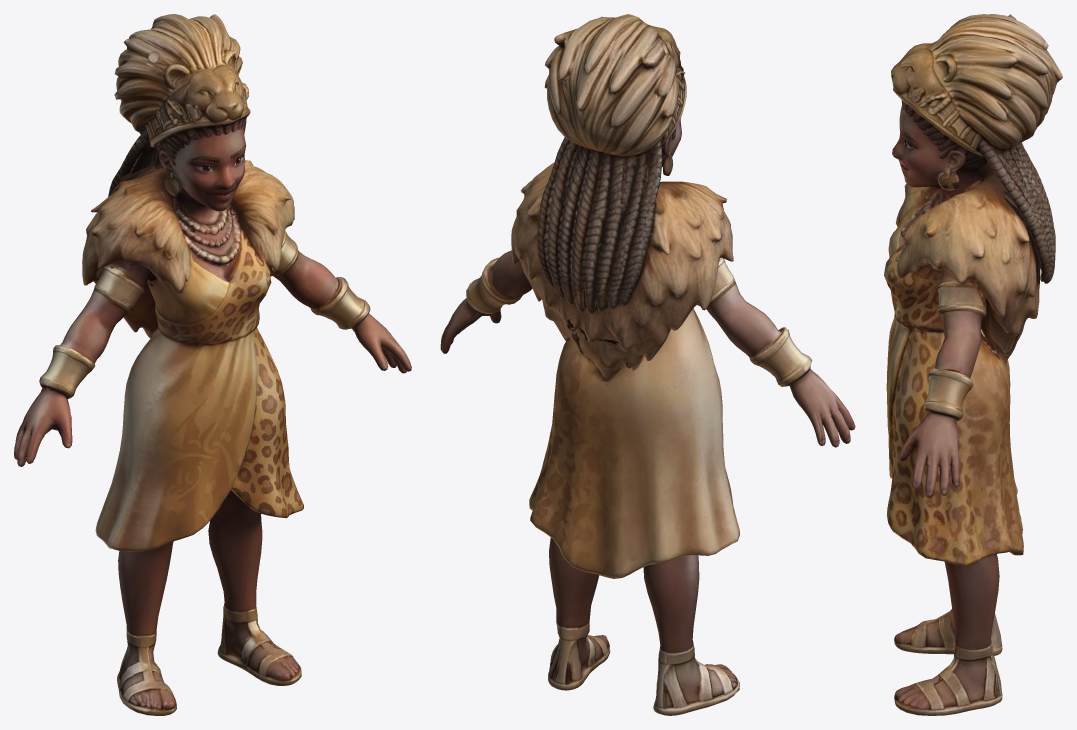
Rendered from queen.glb.
3 renders of one model, left to right at view 1: azimuth 30°, elevation 25°; view 2: azimuth 150°, elevation 25°; view 3: azimuth 270°, elevation 25°, orthographic. The views are drawn at different scales.
Visible parts, largest first — view 1: tripo_node_1d10a9a7-7bcb-4be1-ba95-2bbd869fd37d; view 2: tripo_node_1d10a9a7-7bcb-4be1-ba95-2bbd869fd37d; view 3: tripo_node_1d10a9a7-7bcb-4be1-ba95-2bbd869fd37d.
Part boxes in pixels (x1,y1,x2,y2): tripo_node_1d10a9a7-7bcb-4be1-ba95-2bbd869fd37d: (14, 14, 411, 715); tripo_node_1d10a9a7-7bcb-4be1-ba95-2bbd869fd37d: (440, 14, 855, 715); tripo_node_1d10a9a7-7bcb-4be1-ba95-2bbd869fd37d: (884, 14, 1062, 715).
Size of the model in its own units: 0.6133 by 0.9786 by 0.2414.
Materials: 1 (1 with a texture image).
